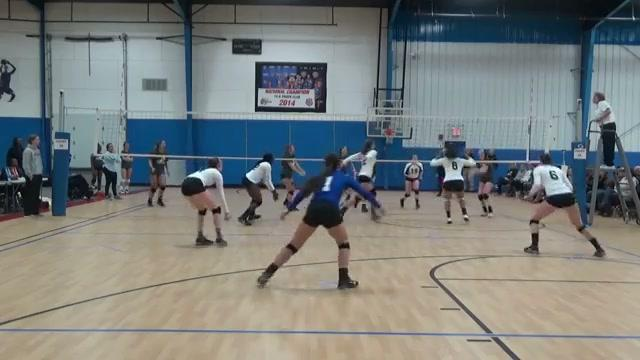ball: (410, 50, 417, 59)
